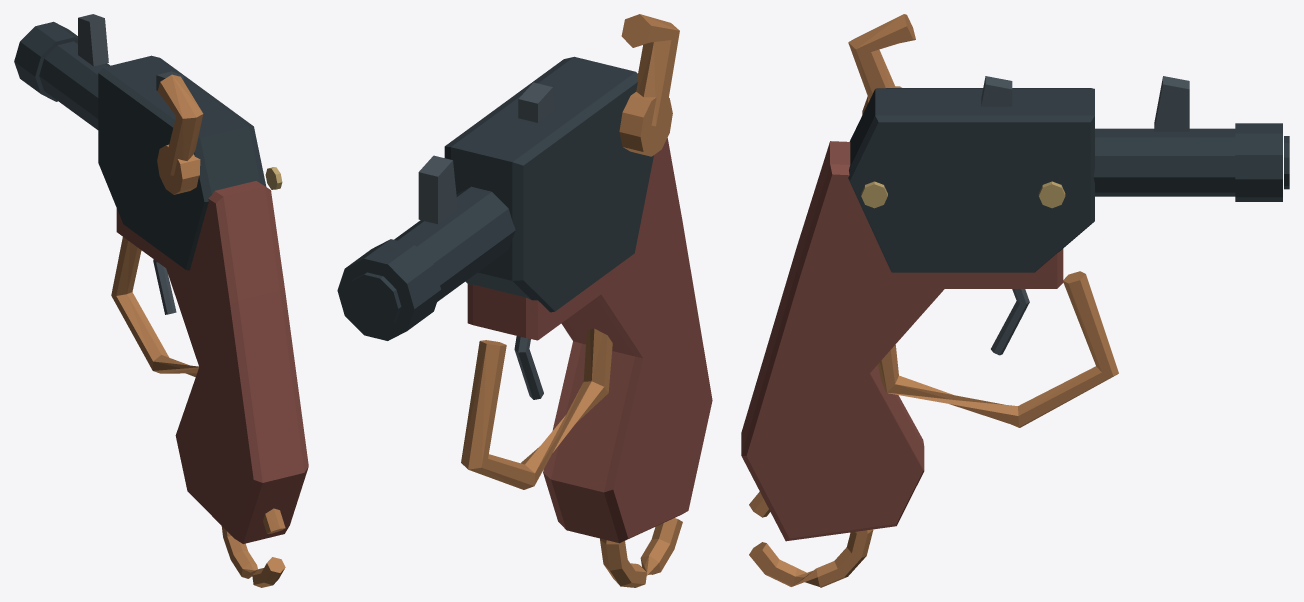
File: AEW_Pistol_GallowsKey.fbx
The picture shows the model from 3 angles, left to right: view 1: azimuth 30°, elevation 25°; view 2: azimuth 150°, elevation 25°; view 3: azimuth 270°, elevation 25°; orthographic projection. The views are drawn at different scales.
Parts seen in each view (by area): view 1: AEW_Pistol_GallowsKey; view 2: AEW_Pistol_GallowsKey; view 3: AEW_Pistol_GallowsKey.
Boxes of the visible parts, left/top/right/bottom form: AEW_Pistol_GallowsKey: left=14, top=14, right=308, bottom=587; AEW_Pistol_GallowsKey: left=337, top=14, right=712, bottom=587; AEW_Pistol_GallowsKey: left=741, top=14, right=1289, bottom=587.
Bounding box in the file's own units: 0.1201 × 0.5487 × 0.494.
